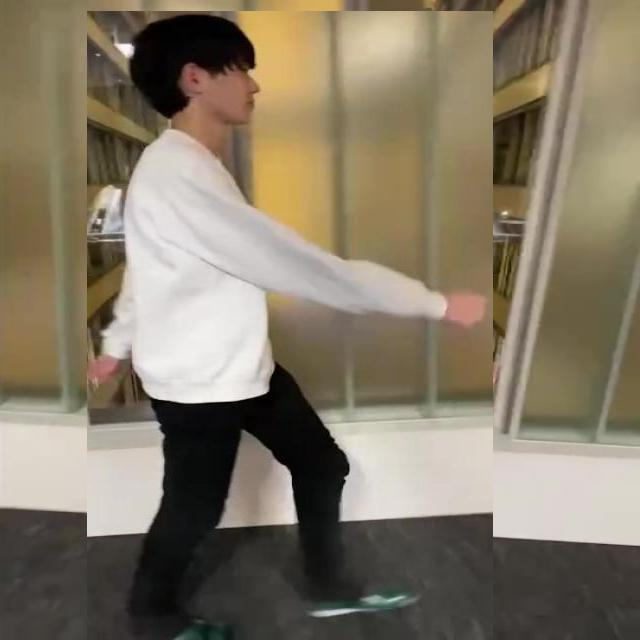direk: (87, 11, 493, 640)
